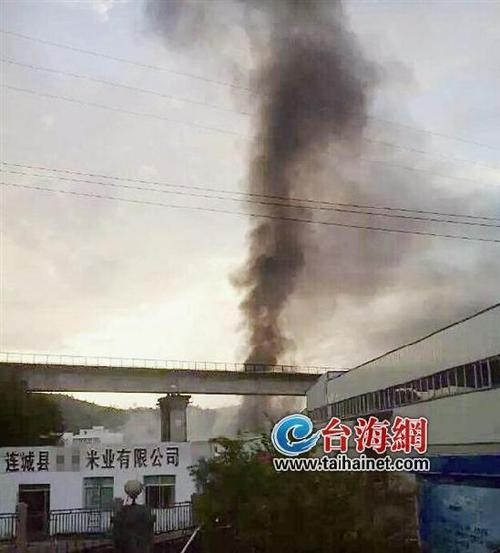smoke: (228, 1, 377, 354)
